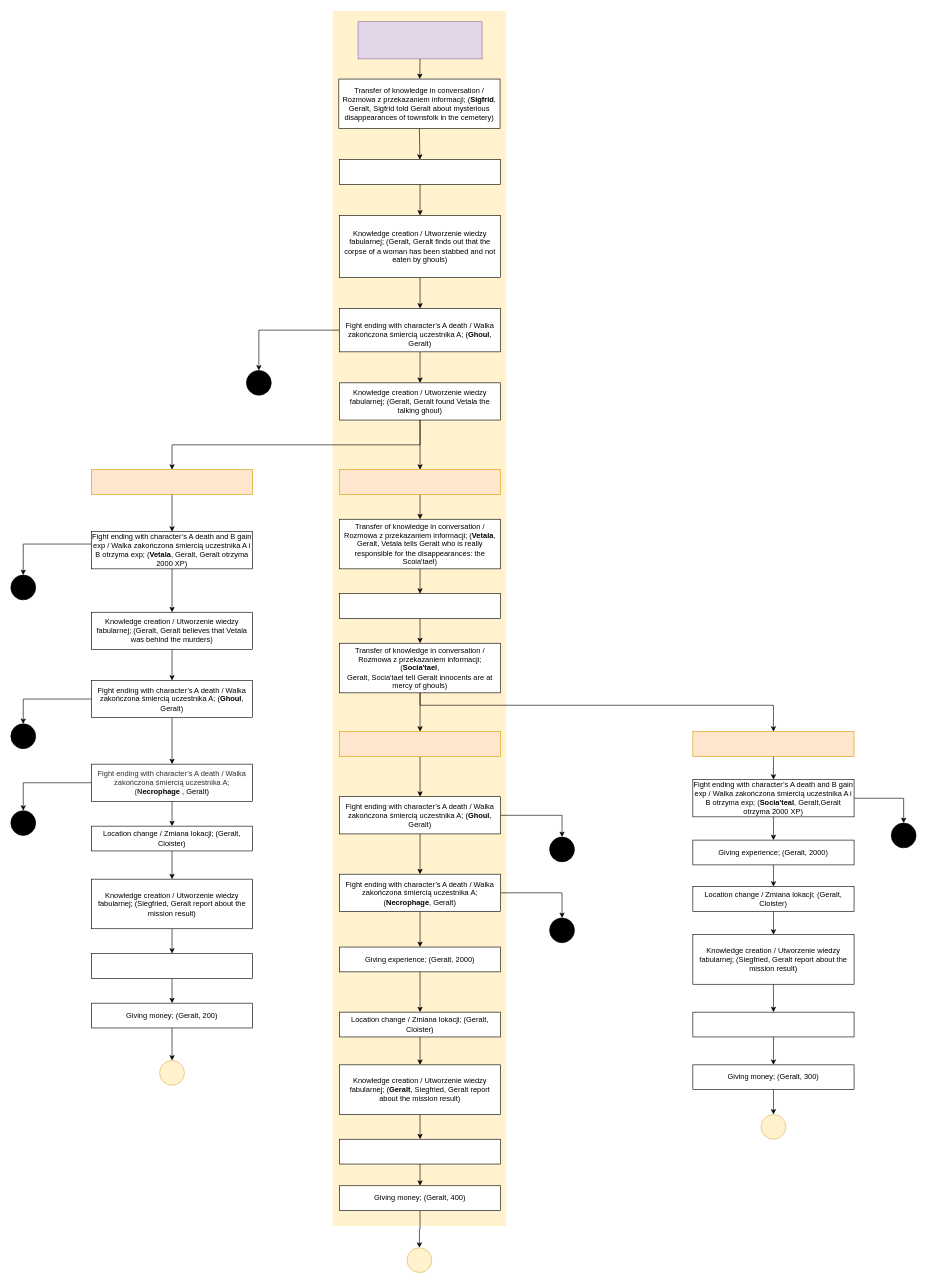
The diagram is 927 pixels wide and 1283 high, and some of its shapes have lost their labels. Each missing label, with the centre of its shape:
"(3.15 Six Feet Under)" goes at pixel 419 40.
"Giving experience; (Geralt, 2500)" goes at pixel 172 965.
"Giving experience; (Geralt, 3500)" goes at pixel 773 1024.
"Giving experience; (Geralt, 4500)" goes at pixel 420 1151.
"Go Save the innocents" goes at pixel 420 743.
"Kill the murderers" goes at pixel 773 743.
"Kill Vetala" goes at pixel 172 481.
"Location change / Zmiana lokacji; (Geralt, Cemetery )" goes at pixel 420 171.
"Location change / Zmiana lokacji; (Geralt, Cemetery_Crypt )" goes at pixel 420 605.
"Spare Vetala" goes at pixel 420 481.
